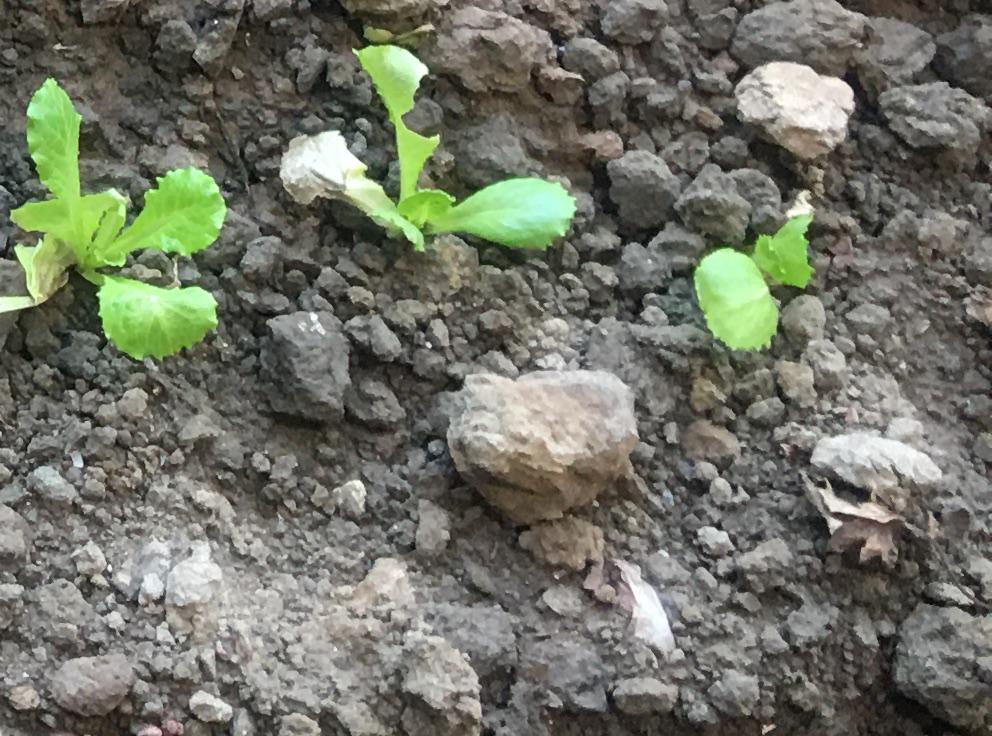block: (446, 359, 640, 514), (256, 304, 359, 430), (734, 55, 859, 157), (423, 10, 547, 95)
